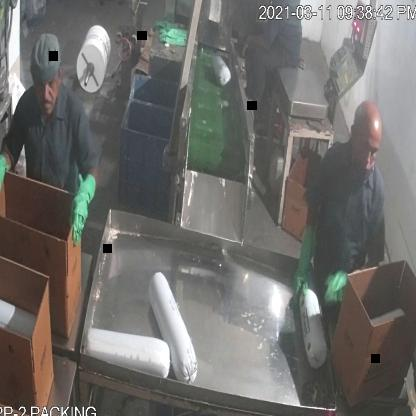glove: (286, 218, 324, 306), (63, 156, 98, 251)
